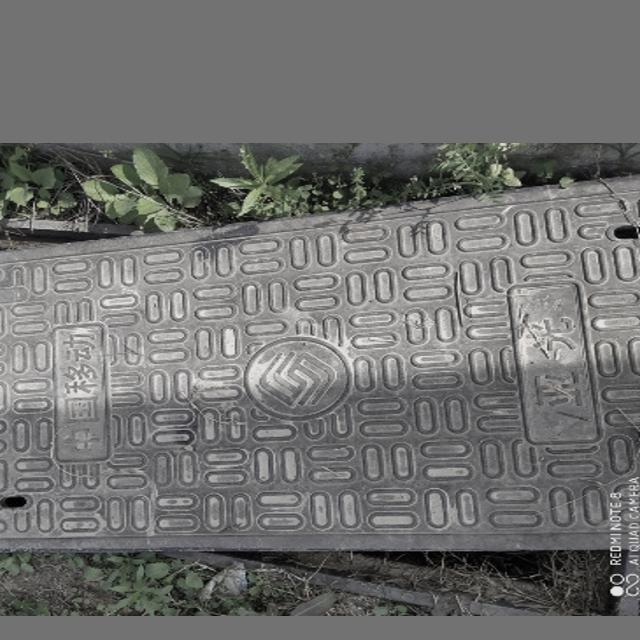uncovered: (0, 169, 640, 610)
